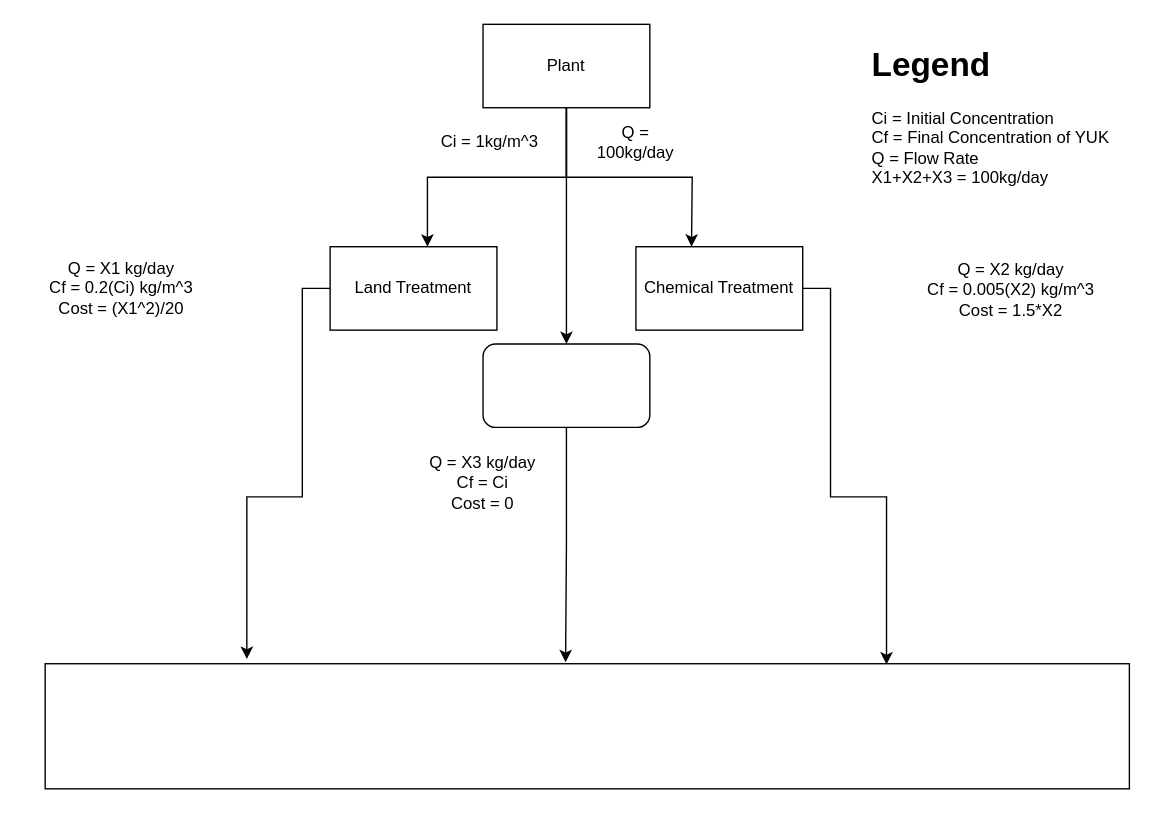
The diagram is 1154 pixels wide and 813 high, and some of its shapes have lost their labels. Here are the shapes that lost their labels. From the top down, the centre of each, then its label:
the point at 566,385: No Treatment
the point at 586,725: Pristine Brook Stream
